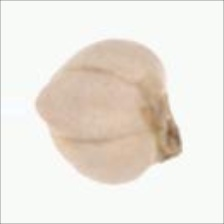L5: (34, 66, 152, 145), (142, 74, 186, 166)
L6: (35, 36, 187, 187)
